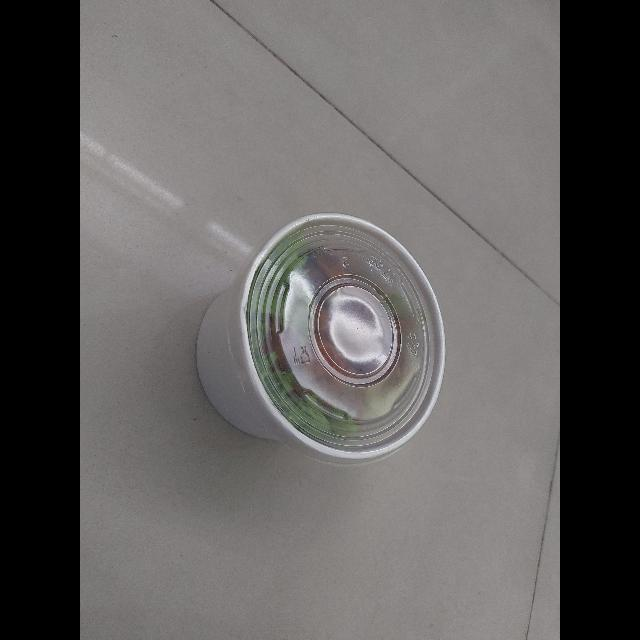rice-bowl: (185, 203, 457, 462)
